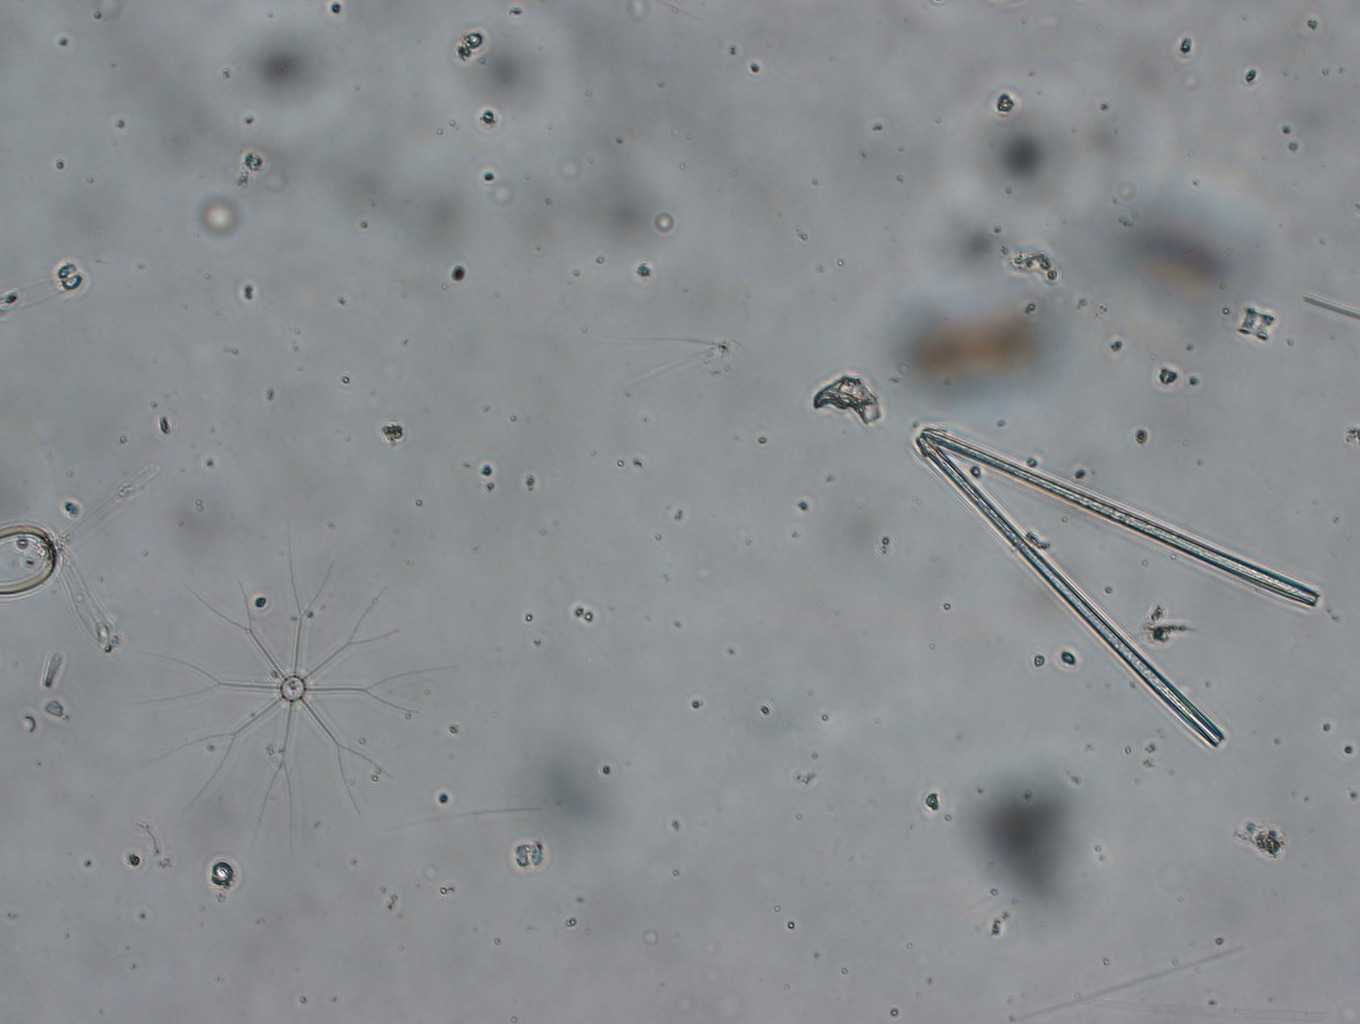bacteriastrum: (164, 558, 436, 826)
thalassionema frauenfeldii: (889, 430, 1334, 755)
